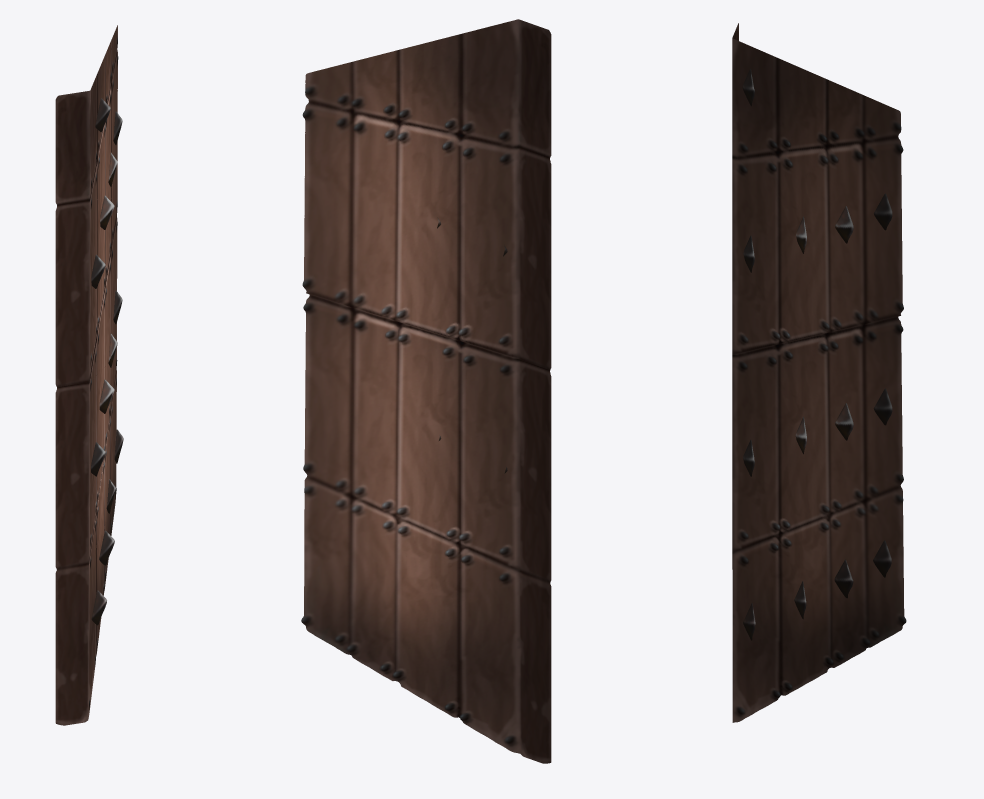
Rendered from Castle Tower_Boss Door.FBX.
The picture shows the model from 3 angles, left to right: view 1: azimuth 30°, elevation 25°; view 2: azimuth 150°, elevation 25°; view 3: azimuth 270°, elevation 25°; orthographic projection. The views are drawn at different scales.
Parts seen in each view (by area): view 1: Boss Door; view 2: Boss Door; view 3: Boss Door.
Part boxes in pixels (<box>): Boss Door: <box>55,25,123,725</box>; Boss Door: <box>301,19,551,763</box>; Boss Door: <box>732,23,906,722</box>.
Size of the model in its own units: 342 by 351 by 938.
